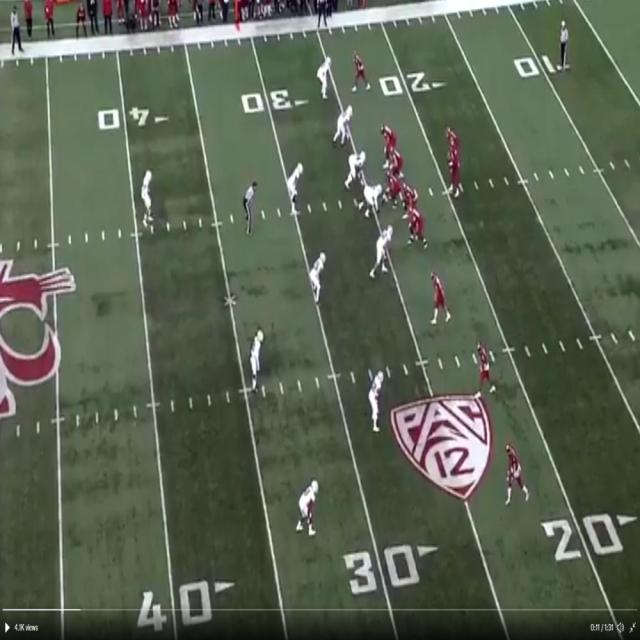center: (384, 169, 399, 202)
db: (296, 481, 318, 531), (252, 332, 264, 388), (320, 54, 334, 96), (142, 170, 152, 222)
lb: (369, 373, 385, 430), (290, 162, 305, 216), (308, 251, 324, 301), (333, 104, 349, 143)
qb: (448, 140, 462, 195)
skill: (504, 440, 528, 505), (476, 345, 494, 395), (431, 275, 449, 323), (352, 53, 367, 88), (448, 122, 460, 147)
